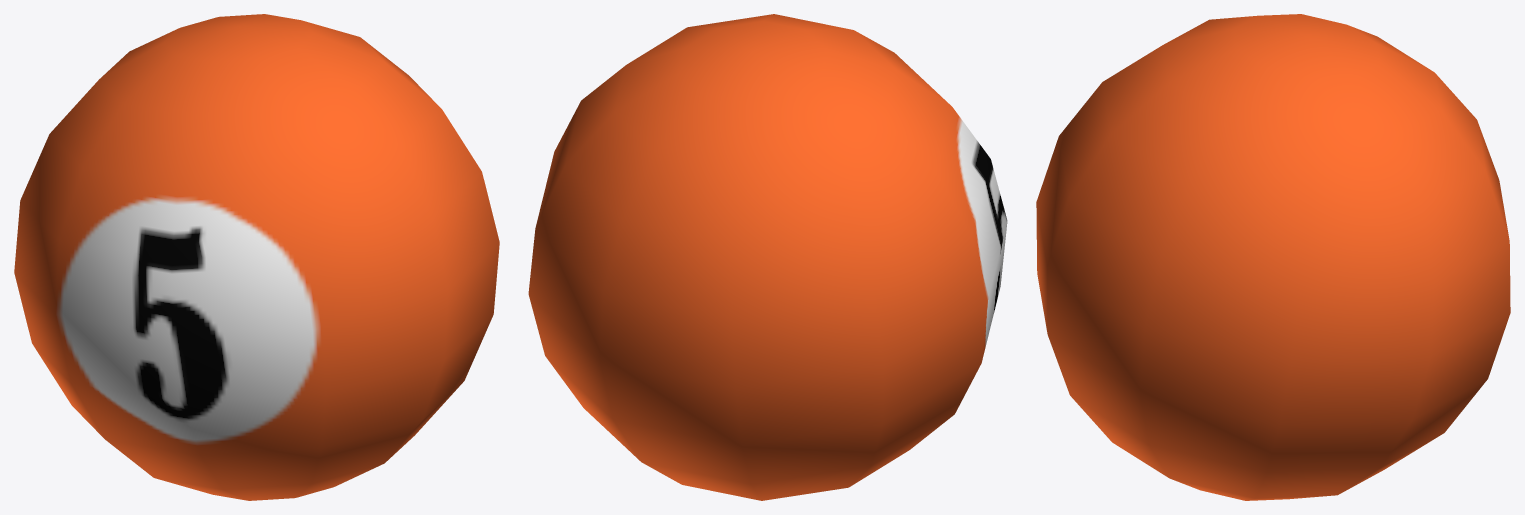
The model's file is Ball5.gltf.
The picture shows the model from 3 angles, left to right: view 1: azimuth 30°, elevation 25°; view 2: azimuth 150°, elevation 25°; view 3: azimuth 270°, elevation 25°; orthographic projection.
Parts seen in each view (by area): view 1: Ball5_Material_#36_0; view 2: Ball5_Material_#36_0; view 3: Ball5_Material_#36_0.
Boxes of the visible parts, x1,y1,x2,y2 form: Ball5_Material_#36_0: [14, 14, 499, 500]; Ball5_Material_#36_0: [528, 14, 1007, 500]; Ball5_Material_#36_0: [1036, 14, 1510, 500].
Size of the model in its own units: 5.77 by 5.73 by 5.56.
1 material, 1 textured.
